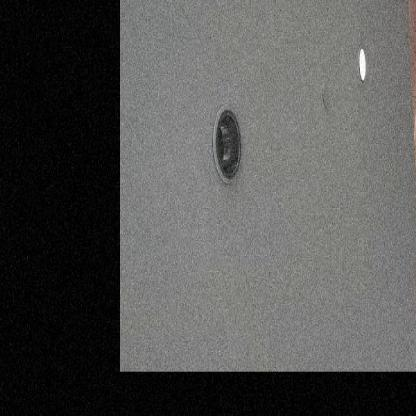light_off: (200, 86, 252, 200)
